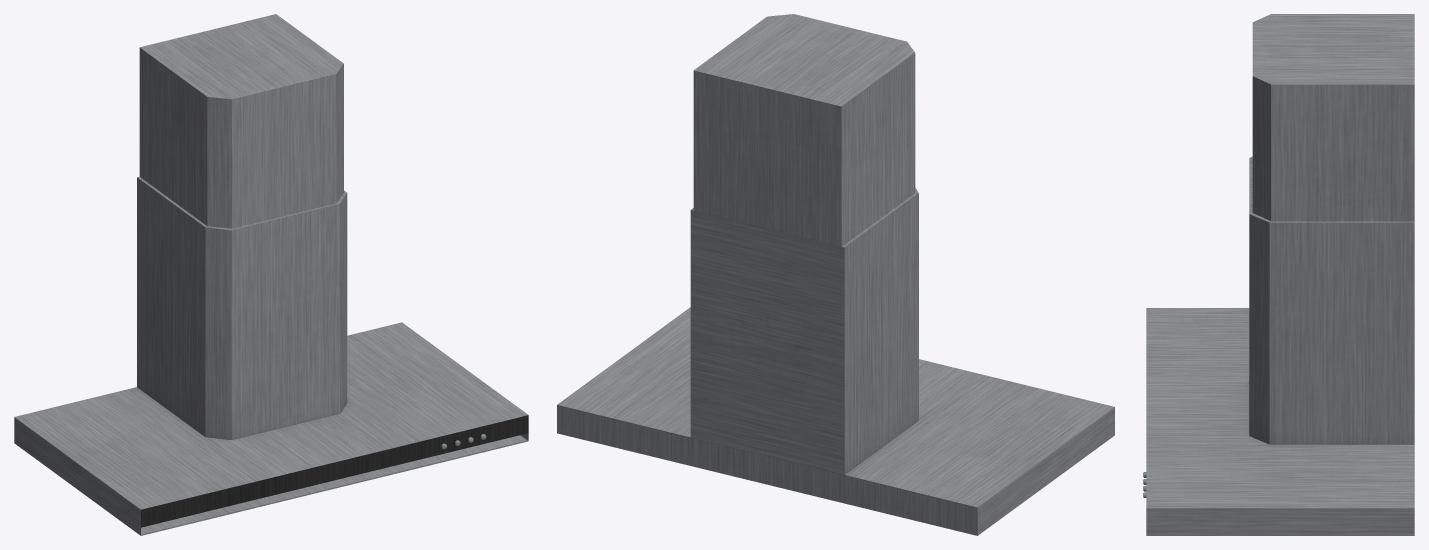
Rendered from Chimney.fbx.
3 renders of one model, left to right at view 1: azimuth 30°, elevation 25°; view 2: azimuth 150°, elevation 25°; view 3: azimuth 270°, elevation 25°, orthographic. The views are drawn at different scales.
Parts seen in each view (by area): view 1: Cylinder.001; view 2: Cylinder.001; view 3: Cylinder.001.
Part boxes in pixels (x1,y1,x2,y2): Cylinder.001: (14, 14, 528, 535); Cylinder.001: (557, 14, 1114, 535); Cylinder.001: (1143, 14, 1414, 535).
Bounding box in the file's own units: 89.93 × 80.97 × 51.48.
Materials: 1 (1 with a texture image).
